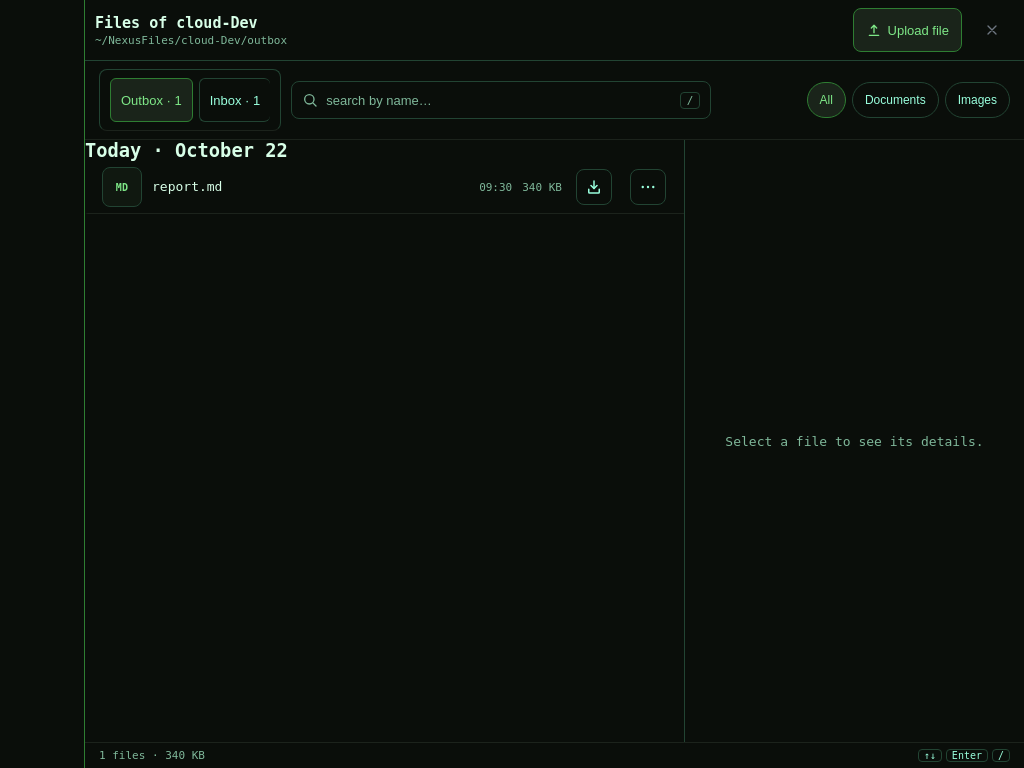
Test case: FilesPanel desktop — intestazione e barra › segmenti col conteggio, uno acceso; Inbox cambia percorso e righe
Click the button "Inbox · 1" at (234, 100), box [199,78,270,122]
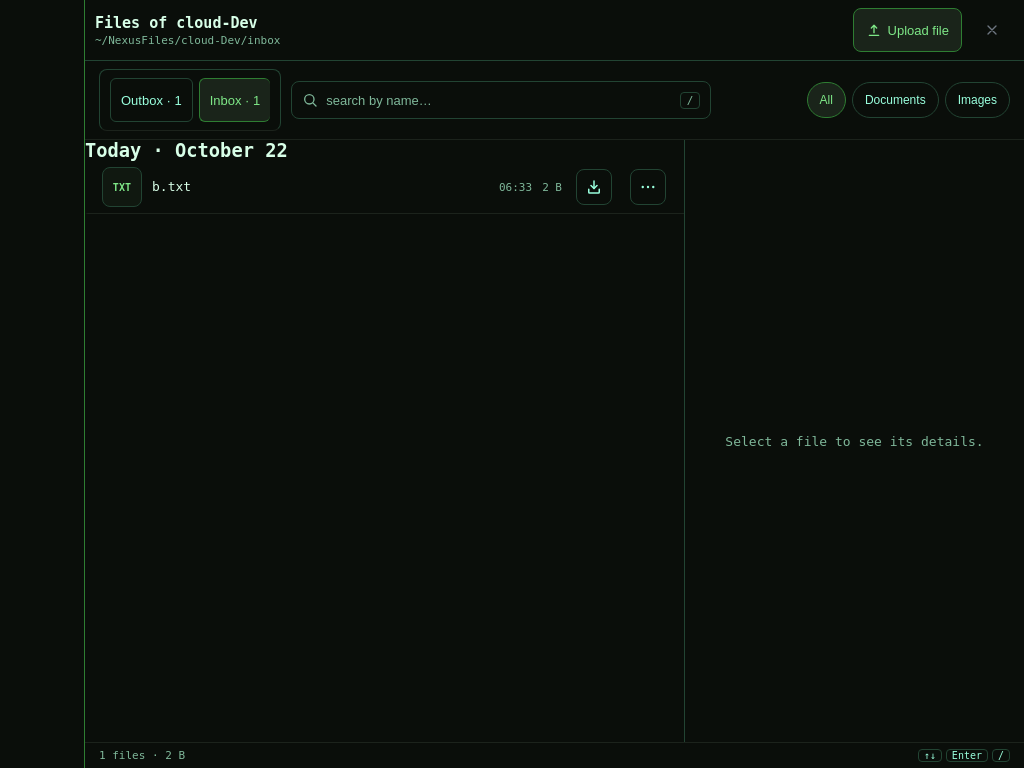
Expected: the text "~/NexusFiles/cloud-Dev/inbox" is shown, [95,34,280,46]
Expected: the text "b.txt" is shown, [152,178,191,194]
Expected: the text "report.md" is gone
